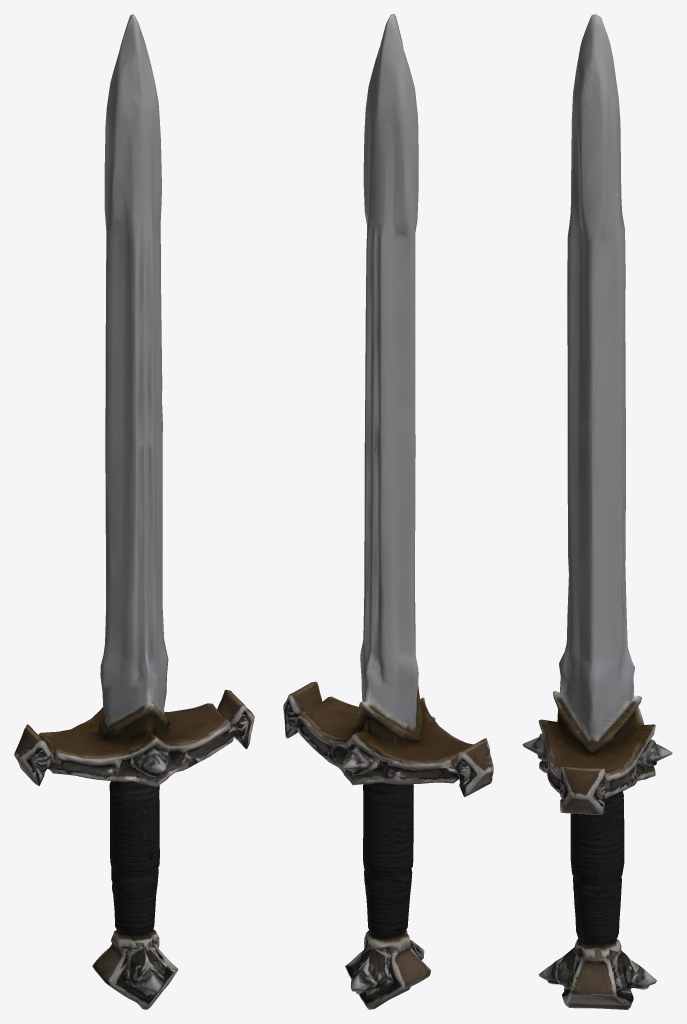
The model's file is espada-aco-m66.glb.
3 views of the same model, side by side, from view 1: azimuth 30°, elevation 25°; view 2: azimuth 150°, elevation 25°; view 3: azimuth 270°, elevation 25° (orthographic).
Bounding box in the file's own units: 0.2471 × 1.05 × 0.1439.
1 material, 1 textured.
